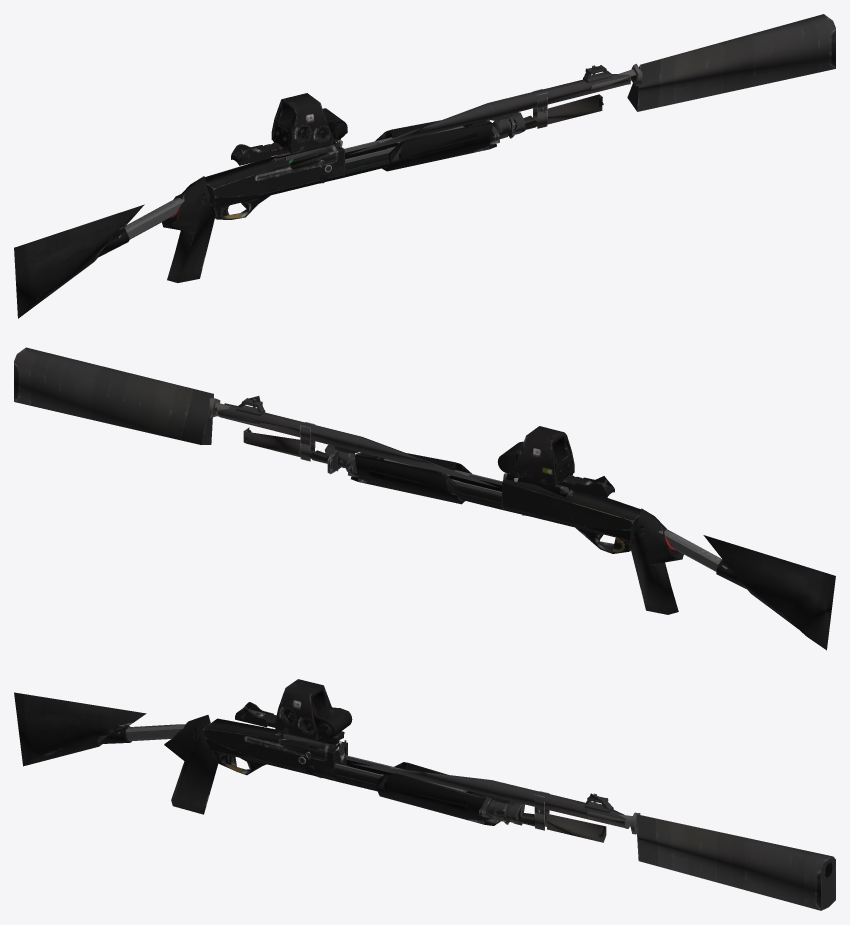
File: benelli_m3_lod1.glb
3 views of the same model, one above another, from view 1: azimuth 30°, elevation 25°; view 2: azimuth 150°, elevation 25°; view 3: azimuth 330°, elevation 25° (orthographic).
Visible parts, largest first — view 1: base, silencer, base_2, forend, sight, forend_2; view 2: base, silencer, base_2, forend, sight, forend_2; view 3: base, silencer, base_2, forend, sight, forend_2.
Part boxes in pixels (x1,y1,x2,y2): base: (14,89,547,318); silencer: (589,14,835,111); base_2: (271,65,629,181); forend: (375,120,502,171); sight: (271,93,347,153); forend_2: (271,126,463,172); base: (300,422,835,650); silencer: (14,347,259,444); base_2: (217,396,571,510); forend: (345,453,471,504); sight: (497,426,574,486); forend_2: (383,459,574,495); base: (14,692,549,830); silencer: (587,811,835,910); base_2: (276,730,625,842); forend: (376,762,500,825); sight: (275,679,352,740); forend_2: (275,732,467,792).
Bounding box in the file's own units: 1.53 × 0.2739 × 0.0841.
Materials: 3 (3 with a texture image).
